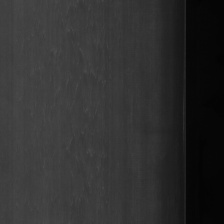silk_spot: (62, 102, 111, 189), (60, 31, 109, 90)
